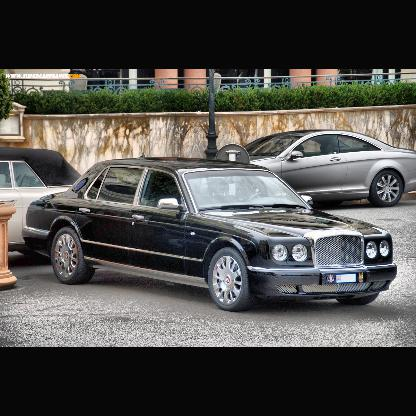Bentley Arnage Sedan 2009: (22, 152, 400, 312)
